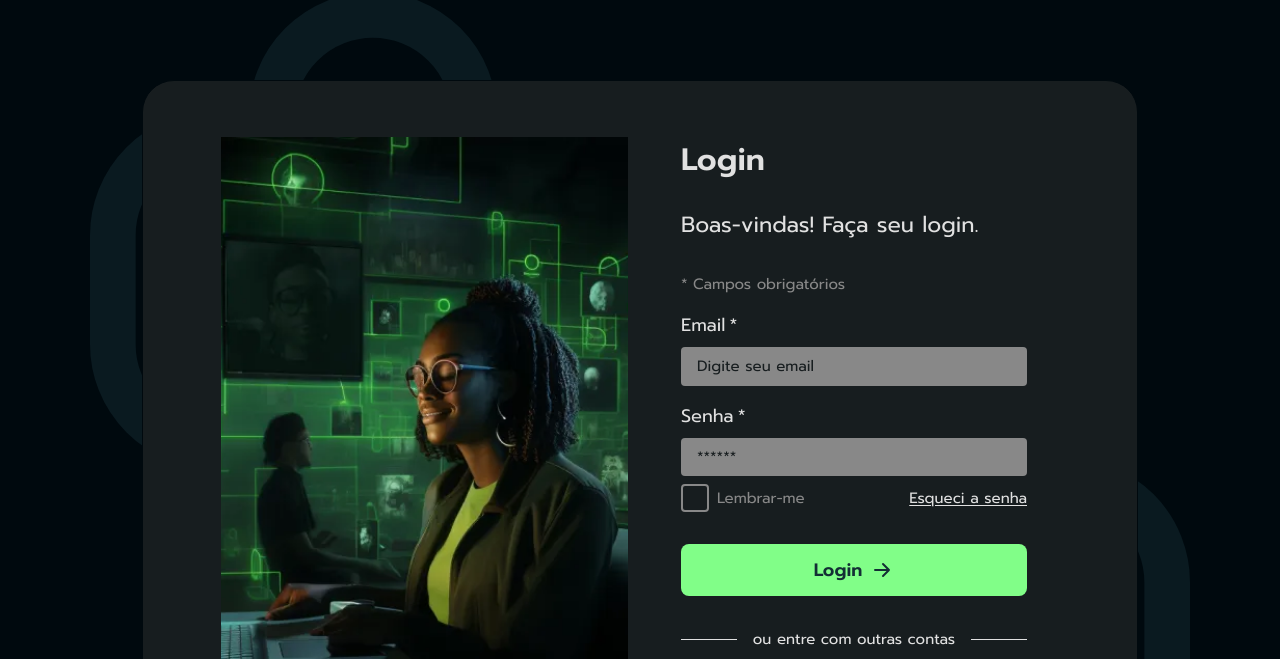
LoginPage › shows the error when the credentials are rejected
In the field labelled "Email": (854, 366) [681,347,1027,386], type "ana@email.com"
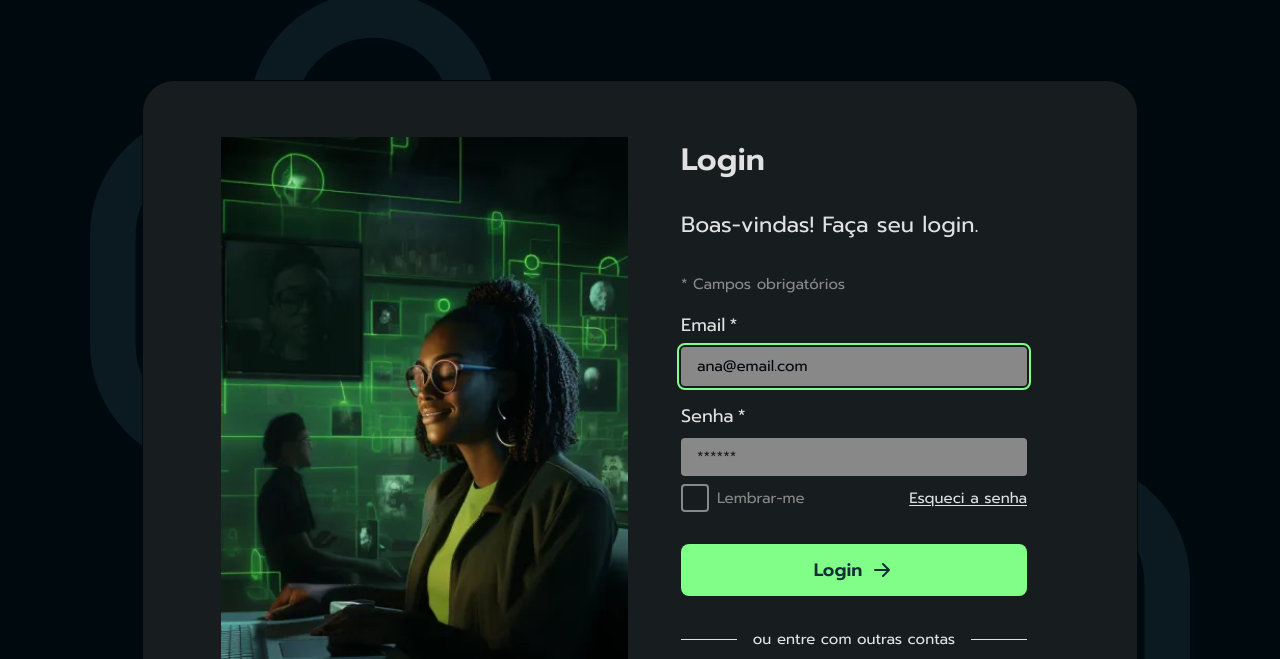
In the password field labelled "Senha": (854, 457) [681,438,1027,476], type "segredo123"
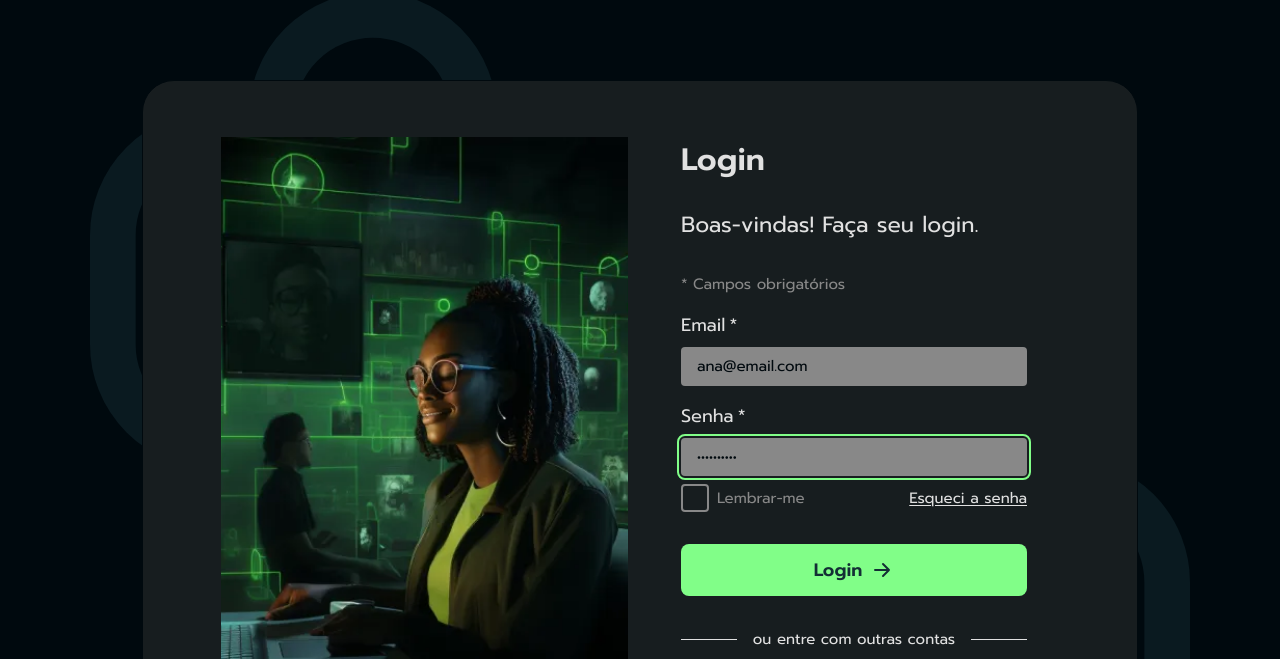
Click the button "Login": (854, 570) [681,544,1027,596]
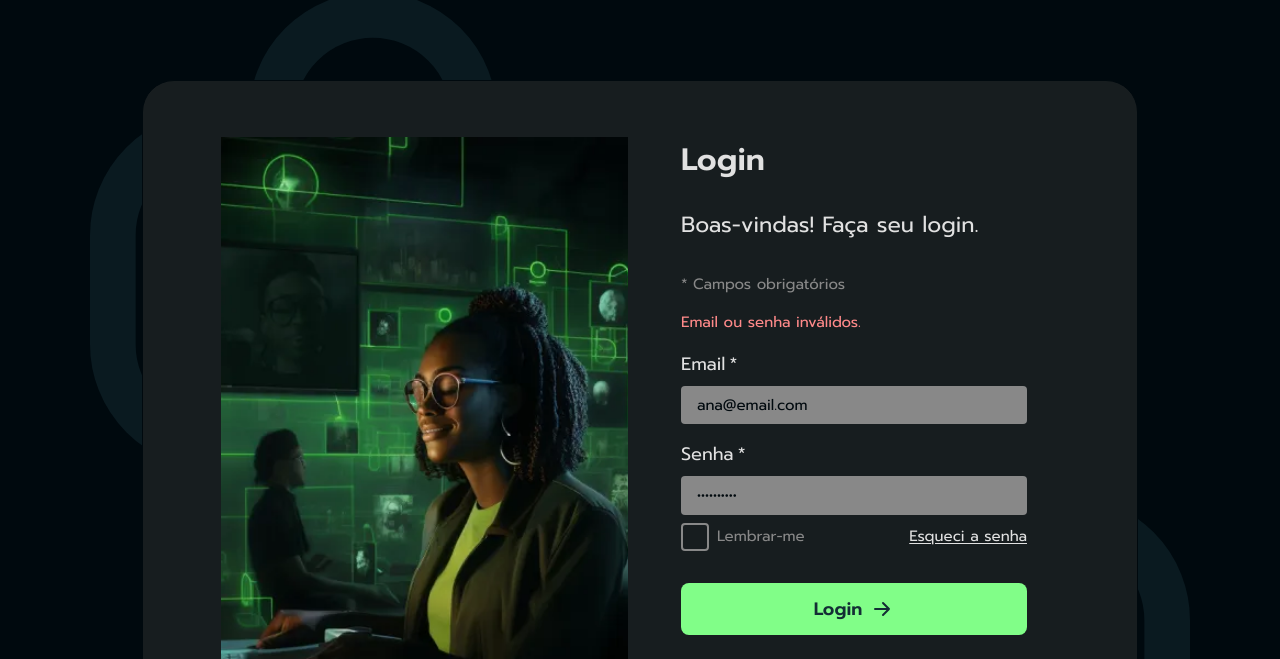
Expected: the button "Login" is enabled, [681,582,1027,634]
Expected: the message reads "Email ou senha inválidos.", [681,311,861,333]
